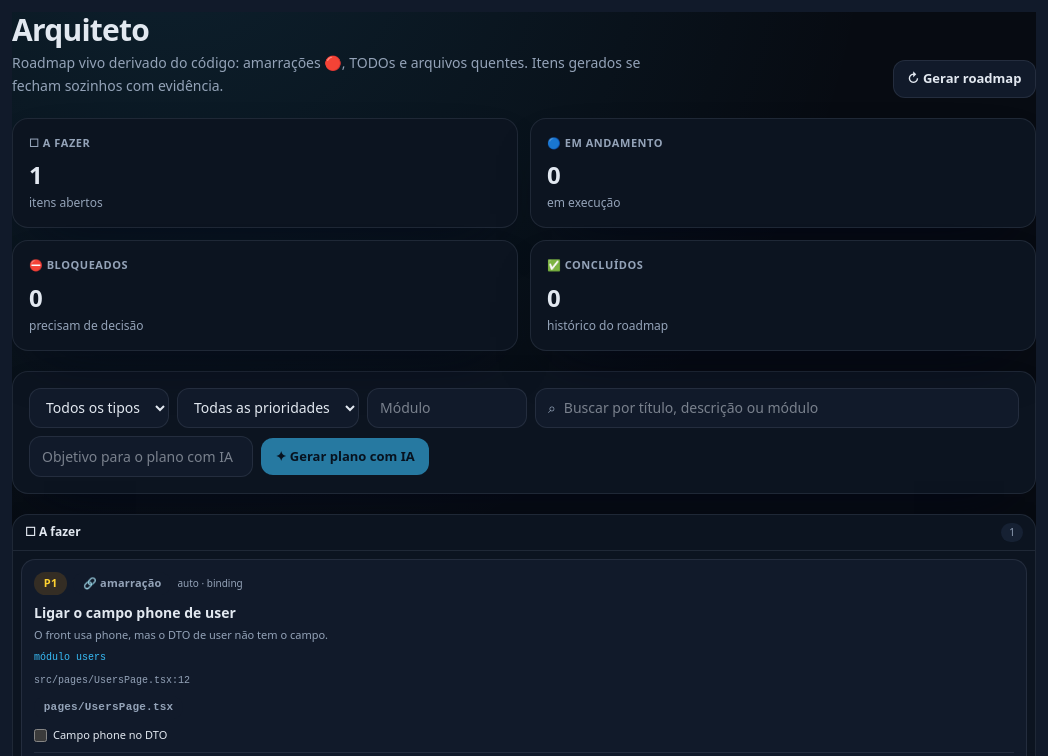
Scenario: ArchitectPage › gera plano com IA a partir de um objetivo
Expected: the heading "Ligar o campo phone de user" is shown, left=34, top=603, right=236, bottom=622
In the field named "Objetivo do plano": x=141, y=456 left=29, top=436, right=253, bottom=477, type "ligar a tela de pedidos"
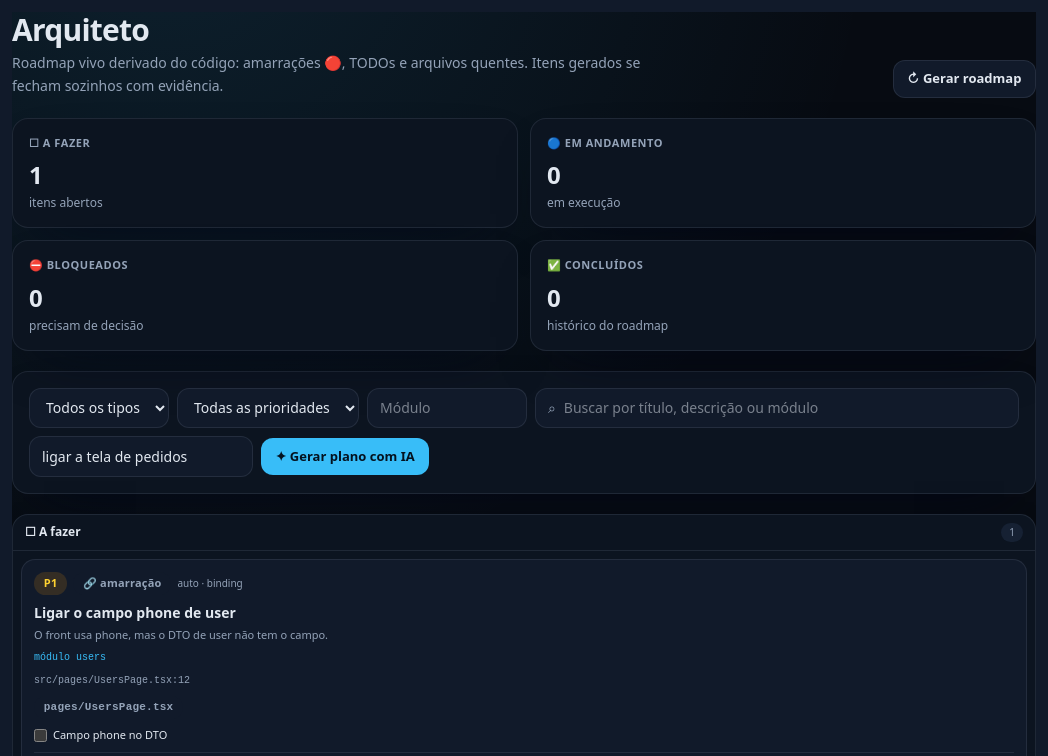
Click the button with test id "architect-plan-button": x=345, y=456 left=261, top=438, right=429, bottom=475
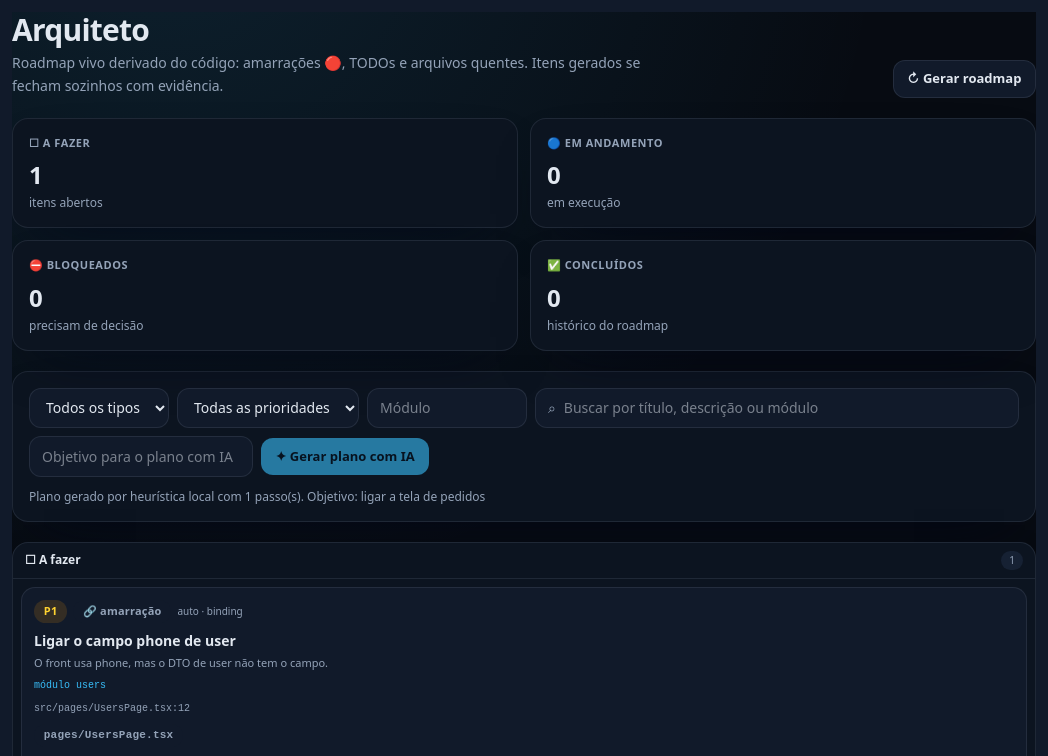
Expected: the text with test id "plan-result" shows "heurística local", left=130, top=488, right=214, bottom=505
